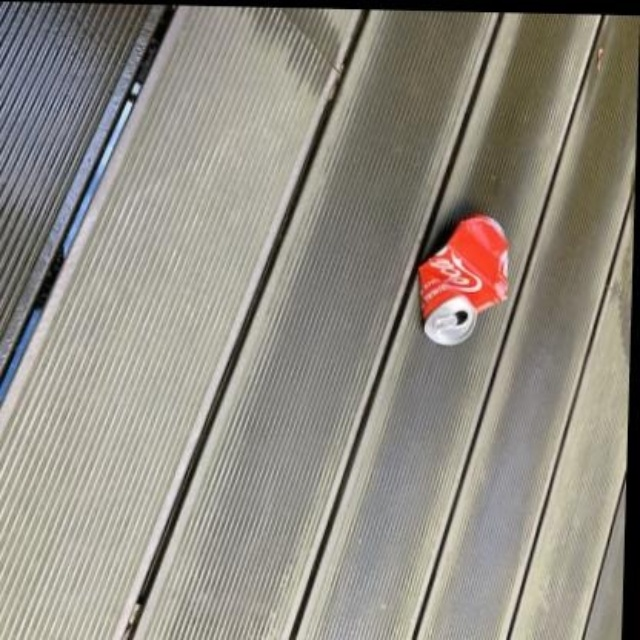trash: (418, 215, 508, 345)
